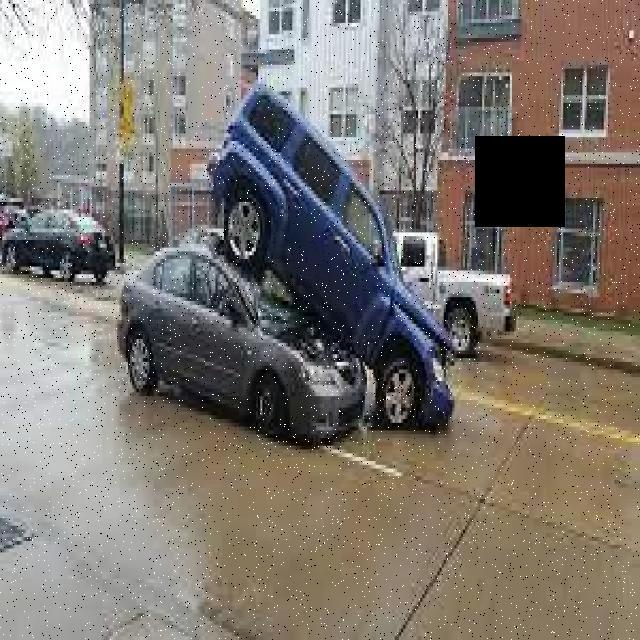severe: (115, 70, 452, 444)
